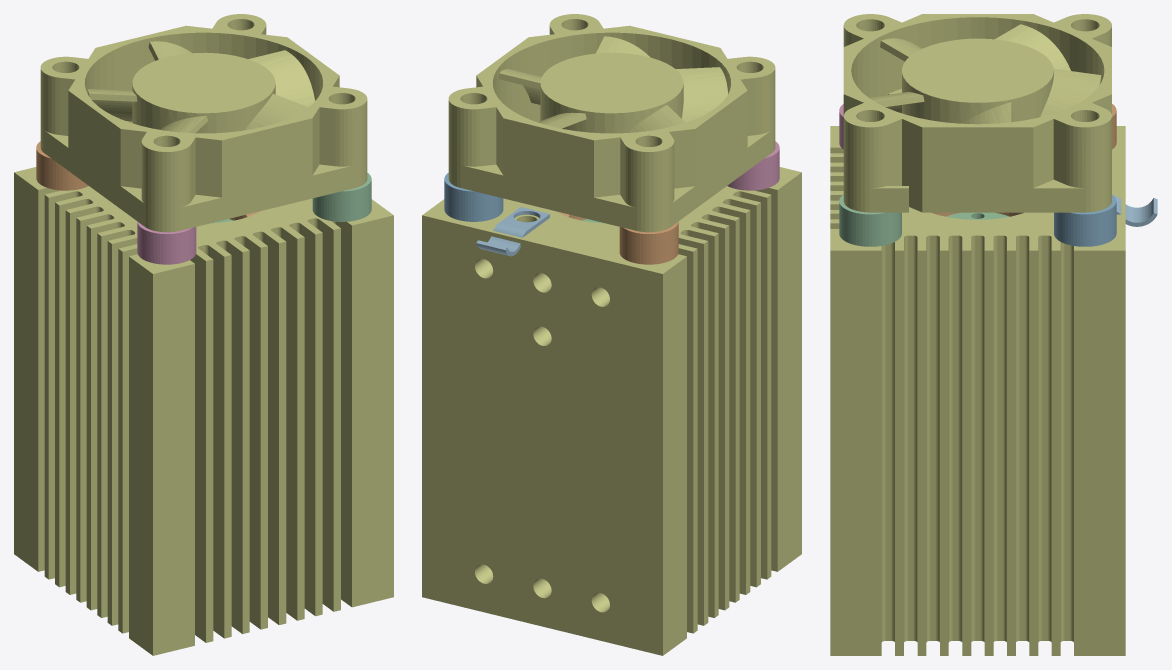
Rendered from case-04_fable52.glb.
3 renders of one model, left to right at view 1: azimuth 30°, elevation 25°; view 2: azimuth 150°, elevation 25°; view 3: azimuth 270°, elevation 25°, orthographic. The views are drawn at different scales.
Visible parts, largest first — view 1: c00001, c00011, c00007, c00008, c00009; view 2: c00001, c00011, c00009, c00010, c00006, c00007; view 3: c00001, c00011, c00010, c00008, c00006.
Boxes of the visible parts, x1,y1,x2,y2 form: c00001: [14, 167, 393, 655]; c00011: [40, 14, 367, 232]; c00007: [137, 221, 196, 264]; c00008: [312, 173, 371, 221]; c00009: [36, 141, 88, 190]; c00001: [422, 167, 801, 655]; c00011: [448, 14, 775, 232]; c00009: [619, 221, 678, 264]; c00010: [444, 173, 503, 221]; c00006: [476, 207, 549, 256]; c00007: [727, 141, 779, 190]; c00001: [830, 126, 1125, 655]; c00011: [843, 14, 1111, 212]; c00010: [1054, 194, 1116, 246]; c00008: [839, 194, 901, 246]; c00006: [1114, 196, 1157, 226].
Bounding box in the file's own units: 33 × 65.5 × 36.6.
